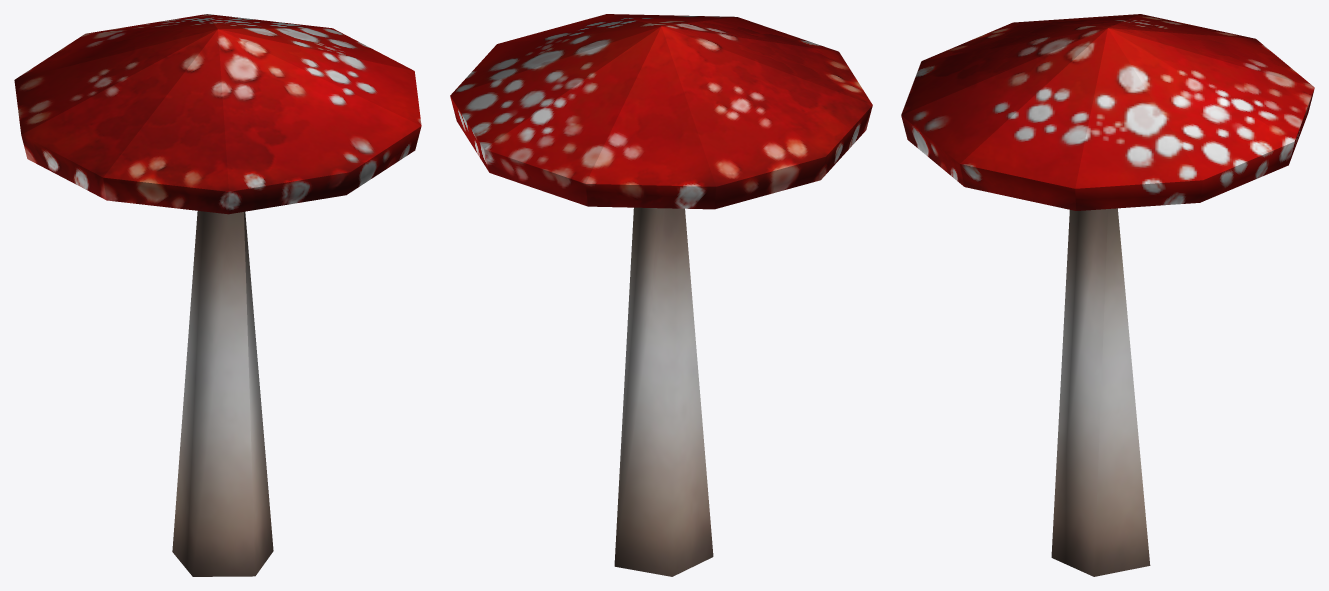
Rendered from mush13.fbx.
3 renders of one model, left to right at view 1: azimuth 30°, elevation 25°; view 2: azimuth 150°, elevation 25°; view 3: azimuth 270°, elevation 25°, orthographic.
Visible parts, largest first — view 1: shrooms13; view 2: shrooms13; view 3: shrooms13.
Part boxes in pixels (bbox=[...]): shrooms13: bbox=[14, 14, 421, 576]; shrooms13: bbox=[450, 14, 872, 576]; shrooms13: bbox=[901, 14, 1314, 576].
Bounding box in the file's own units: 1529 × 2142 × 1529.
1 material, 1 textured.
